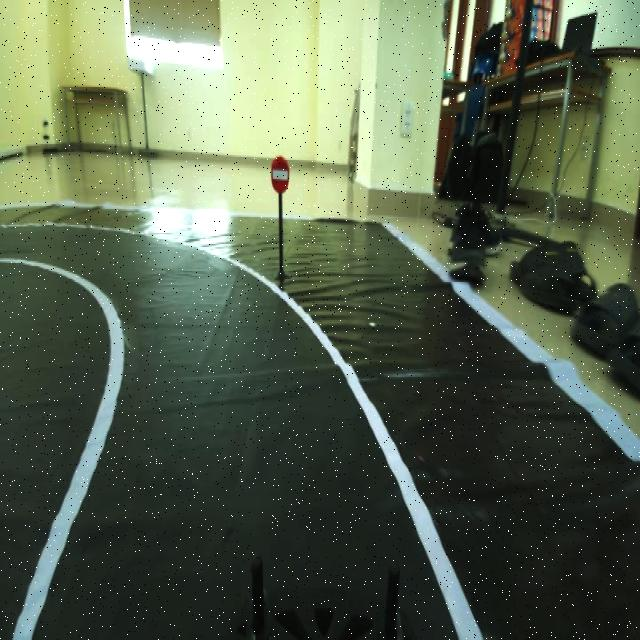no_entry: (257, 137, 301, 200)
